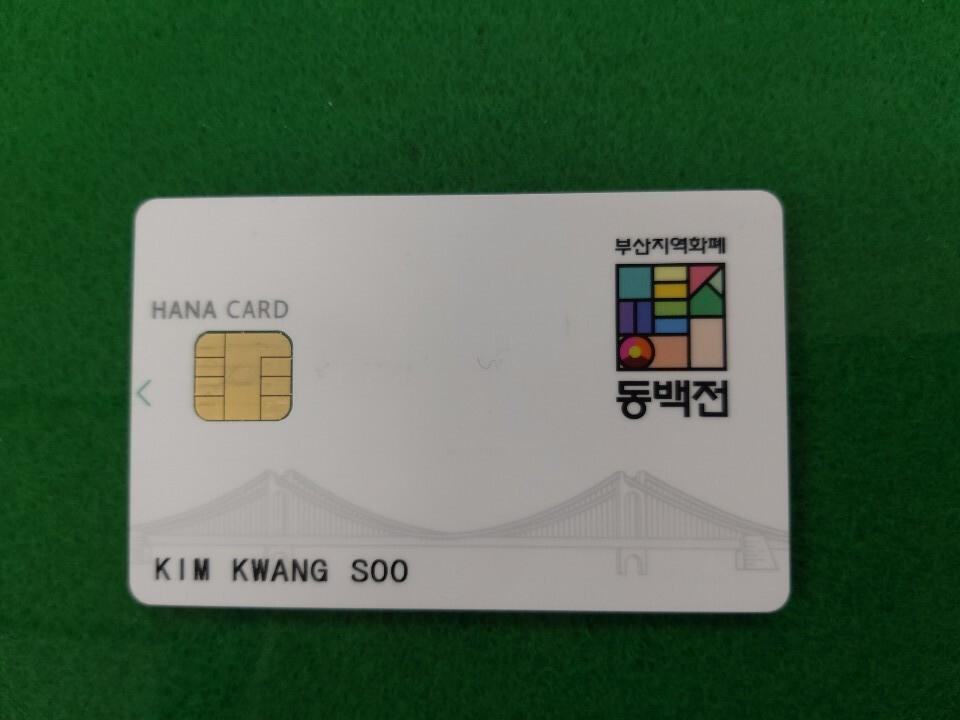Credit_card: (129, 191, 790, 612)
